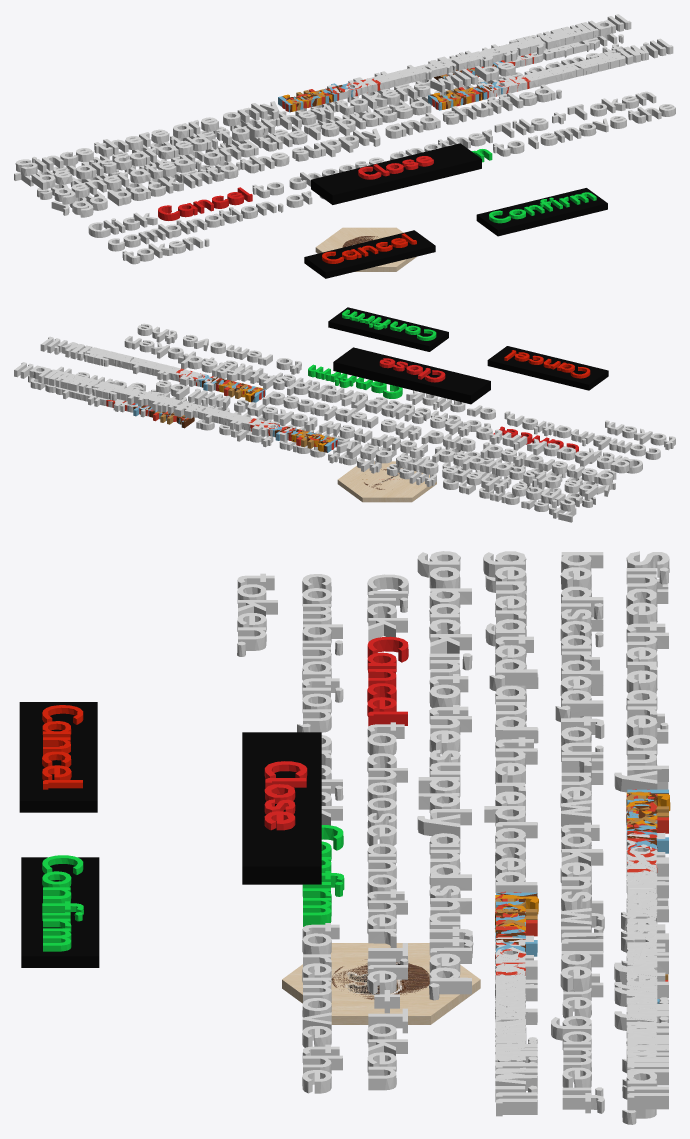
File: cascadia-text.glb
3 renders of one model, top to bottom at view 1: azimuth 30°, elevation 25°; view 2: azimuth 150°, elevation 25°; view 3: azimuth 270°, elevation 25°, orthographic. The views are drawn at different scales.
Visible parts, largest first — view 1: main-wipe, main-throw, close-wipe, salmon-wipe, cancel-throw, confirm-throw, hawk-wipe, elk-wipe, fox-wipe, bear-wipe, blank, salmon-throw (+2 smaller); view 2: main-wipe, main-throw, close-wipe, cancel-throw, confirm-throw, salmon-wipe, hawk-wipe, blank, elk-wipe, bear-wipe, fox-wipe, salmon-throw (+3 smaller); view 3: main-wipe, main-throw, close-wipe, confirm-throw, cancel-throw, salmon-wipe, hawk-wipe, blank, fox-wipe, bear-wipe, elk-wipe, bear-token.
Part boxes in pixels (x1,y1,x2,y2): main-wipe: (15,62,561,217); main-throw: (14,43,675,264); close-wipe: (311,143,481,204); salmon-wipe: (282,14,673,111); cancel-throw: (304,230,435,278); confirm-throw: (476,188,607,236); hawk-wipe: (278,20,646,112); elk-wipe: (287,27,618,110); fox-wipe: (283,26,619,111); bear-wipe: (282,22,640,112); blank: (315,227,416,271); salmon-throw: (442,33,623,77); main-wipe: (156,353,632,511); main-throw: (51,323,675,522); close-wipe: (333,347,490,404); cancel-throw: (487,346,608,390); confirm-throw: (328,307,448,351); salmon-wipe: (14,336,337,449); hawk-wipe: (38,342,338,452); blank: (337,461,436,502); elk-wipe: (63,349,333,448); bear-wipe: (44,344,334,452); fox-wipe: (60,349,335,451); salmon-throw: (28,375,188,421); main-wipe: (417,551,669,1000); main-throw: (237,573,668,1113); close-wipe: (242,732,321,884); confirm-throw: (21,855,99,967); cancel-throw: (19,702,97,812); salmon-wipe: (495,789,668,1116); hawk-wipe: (495,789,668,1090); blank: (282,943,480,1024); fox-wipe: (495,792,670,1062); bear-wipe: (495,793,668,1075); elk-wipe: (495,791,668,1054); bear-token: (331,959,429,999).
Size of the model in its own units: 13.16 by 2.17 by 6.55.
37 materials, 26 textured.
